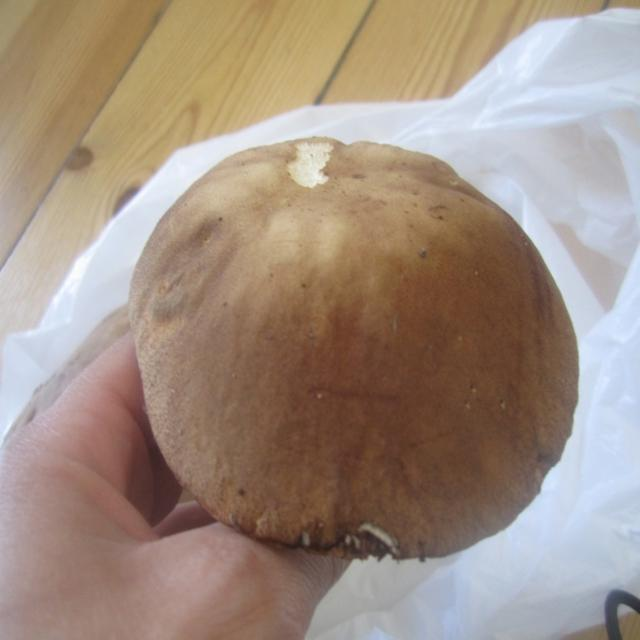Boletus: (129, 136, 582, 559)
